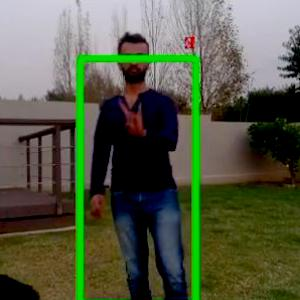takeoff-hand: (120, 93, 149, 136)
